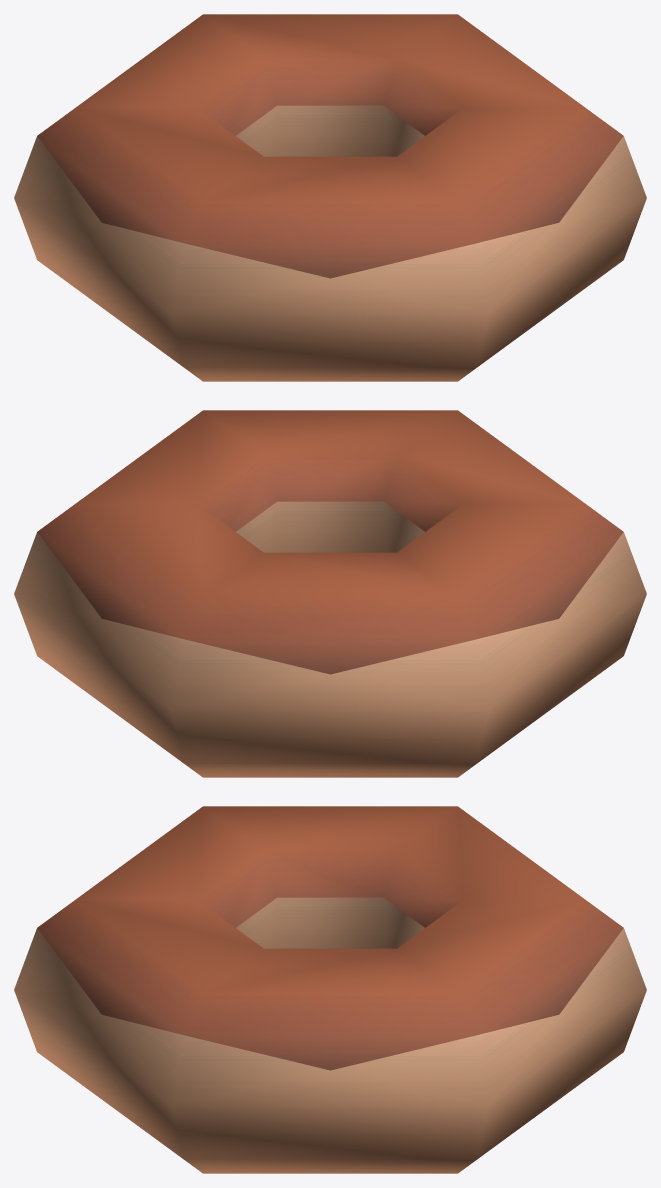
Rendered from donut-chocolate.glb.
The picture shows the model from 3 angles, top to bottom: view 1: azimuth 30°, elevation 25°; view 2: azimuth 150°, elevation 25°; view 3: azimuth 270°, elevation 25°; orthographic projection.
Visible parts, largest first — view 1: donut-chocolate; view 2: donut-chocolate; view 3: donut-chocolate.
Part boxes in pixels (x1,y1,x2,y2): donut-chocolate: (14,14,646,381); donut-chocolate: (14,410,646,777); donut-chocolate: (14,806,646,1173).
Bounding box in the file's own units: 0.2451 × 0.0889 × 0.283.
1 material, 1 textured.
